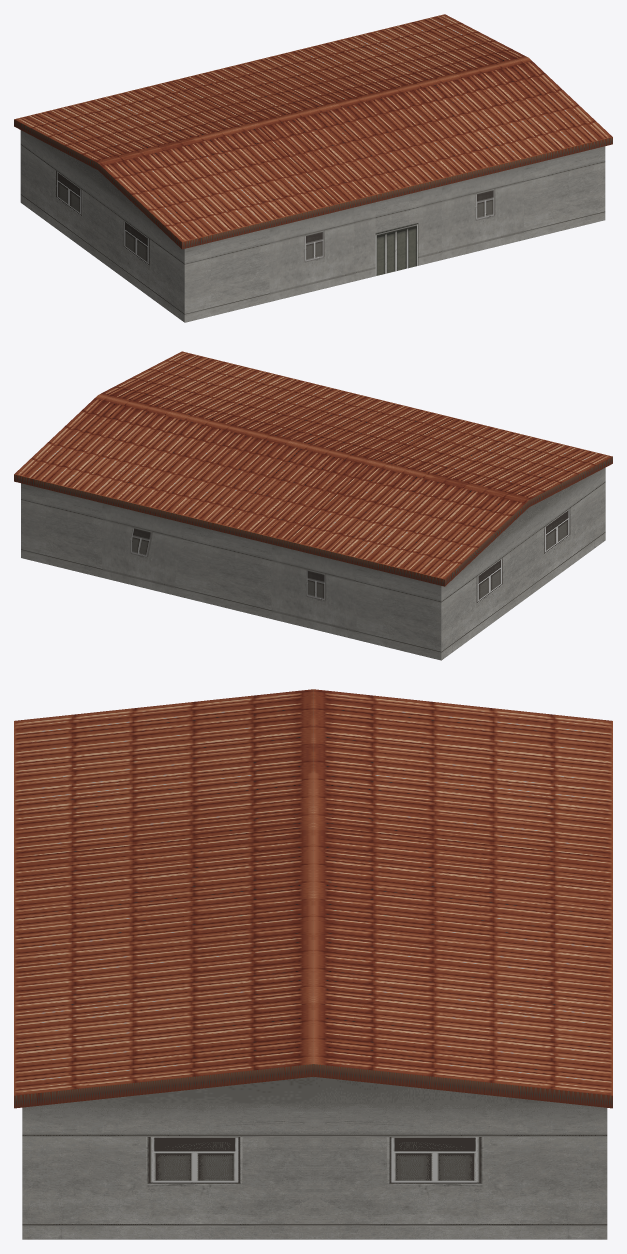
File: pump_house_02.obj
3 views of the same model, one above another, from view 1: azimuth 30°, elevation 25°; view 2: azimuth 150°, elevation 25°; view 3: azimuth 270°, elevation 25° (orthographic). The views are drawn at different scales.
Visible parts, largest first — view 1: Object193; view 2: Object193; view 3: Object193.
Part boxes in pixels (x1,y1,x2,y2): Object193: (14, 14, 612, 322); Object193: (14, 351, 612, 660); Object193: (14, 689, 612, 1239).
Bounding box in the file's own units: 56.56 × 12.7 × 38.2.
